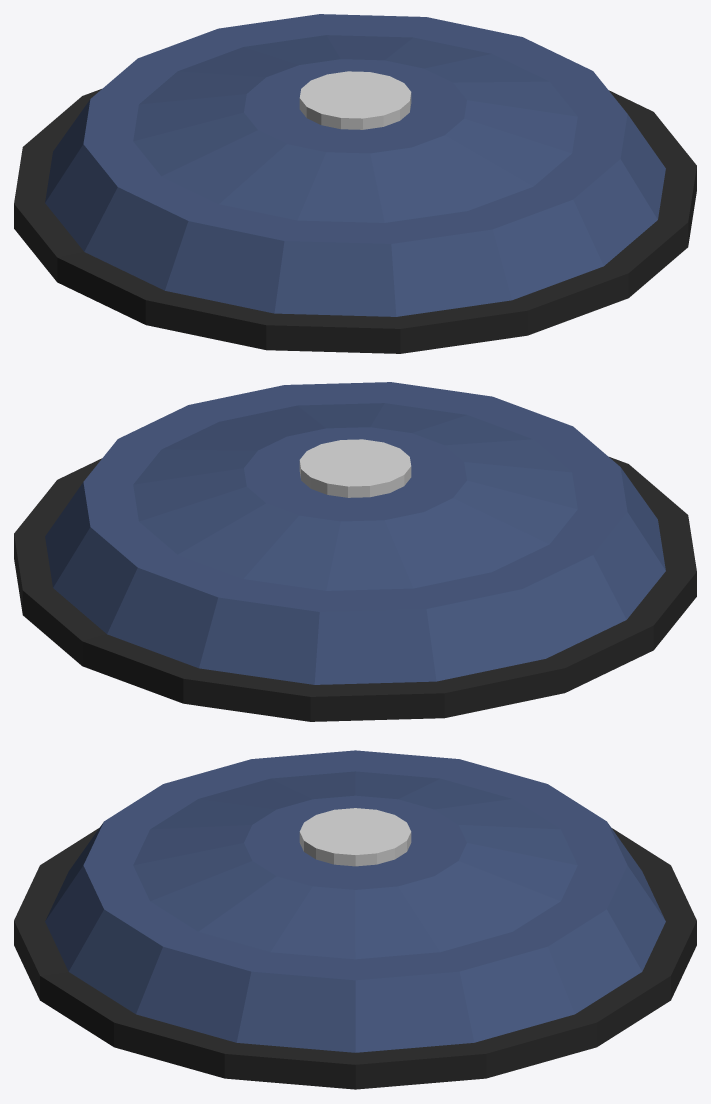
File: Shield_5_c_bl.fbx
3 views of the same model, one above another, from view 1: azimuth 30°, elevation 25°; view 2: azimuth 150°, elevation 25°; view 3: azimuth 270°, elevation 25° (orthographic).
Parts seen in each view (by area): view 1: Circle.414, Circle.413, Circle.412; view 2: Circle.414, Circle.413, Circle.412; view 3: Circle.414, Circle.413, Circle.412.
Part boxes in pixels (bbox=[...]): Circle.414: bbox=[45, 14, 665, 316]; Circle.413: bbox=[14, 89, 696, 353]; Circle.412: bbox=[299, 71, 411, 129]; Circle.414: bbox=[45, 382, 665, 684]; Circle.413: bbox=[14, 457, 696, 721]; Circle.412: bbox=[299, 439, 411, 497]; Circle.414: bbox=[45, 750, 665, 1052]; Circle.413: bbox=[14, 828, 696, 1089]; Circle.412: bbox=[299, 808, 411, 866].
Size of the model in its own units: 55 by 16.06 by 55.
